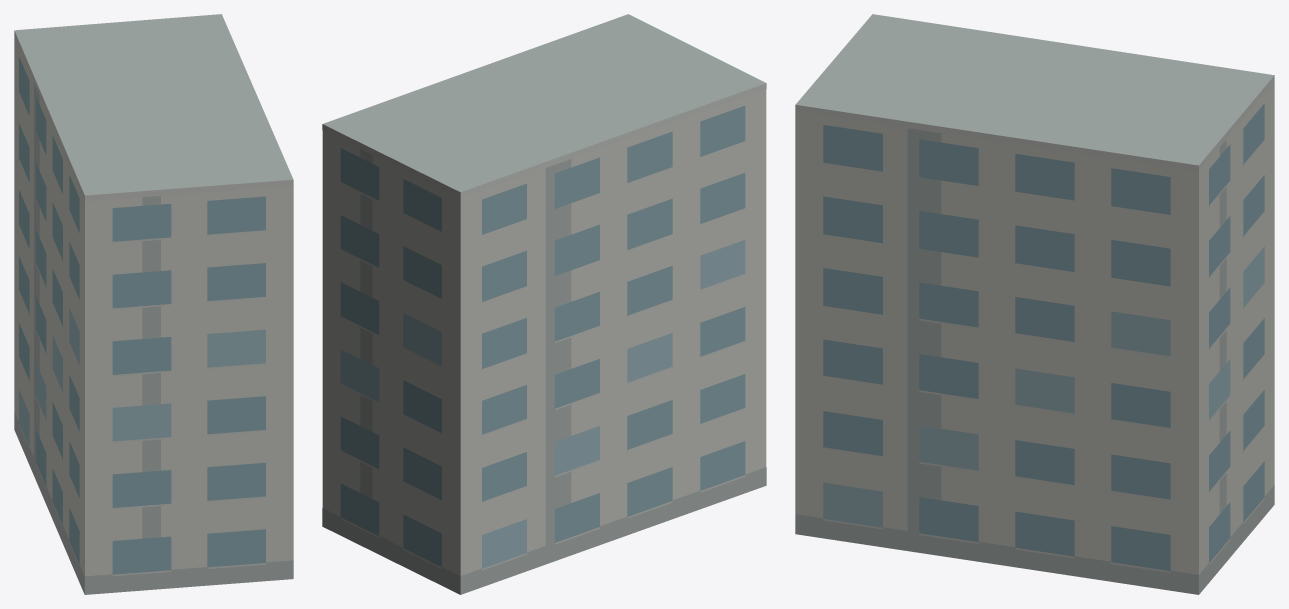
File: survey-upis-32995803.glb
3 renders of one model, left to right at view 1: azimuth 30°, elevation 25°; view 2: azimuth 150°, elevation 25°; view 3: azimuth 270°, elevation 25°, orthographic. The views are drawn at different scales.
Parts seen in each view (by area): view 1: survey-upis-32995803.tmp; view 2: survey-upis-32995803.tmp; view 3: survey-upis-32995803.tmp.
Boxes of the visible parts, box(x1,y1,x2,y2) form: survey-upis-32995803.tmp: box(14, 14, 293, 594); survey-upis-32995803.tmp: box(322, 14, 766, 594); survey-upis-32995803.tmp: box(795, 14, 1274, 594).
Bounding box in the file's own units: 11.96 × 15.8 × 15.99.
